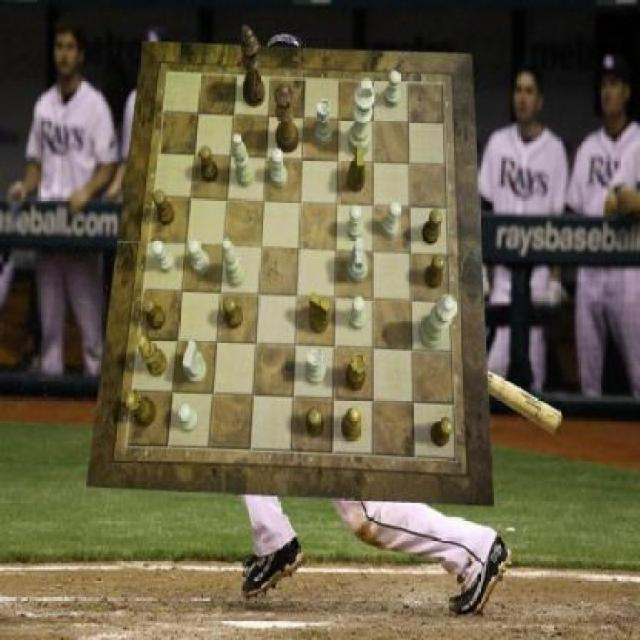bishop: (137, 334, 167, 376), (342, 408, 362, 442)
black-bishop: (240, 25, 266, 107)
black-king: (309, 292, 332, 334), (348, 145, 365, 192)
black-knight: (152, 190, 175, 226), (142, 297, 166, 331), (200, 146, 220, 182), (423, 209, 443, 244), (426, 254, 446, 288), (431, 417, 454, 446), (223, 297, 243, 329), (306, 408, 324, 438)
black-pawn: (274, 83, 300, 152)
black-queen: (126, 389, 157, 427), (346, 352, 366, 390)
black-rook: (232, 134, 255, 188), (222, 238, 246, 288)
white-bishop: (348, 79, 374, 156)
white-king: (183, 340, 208, 384), (348, 237, 368, 282)
white-knight: (150, 238, 174, 272), (188, 239, 210, 273), (270, 148, 288, 186), (383, 202, 401, 239), (384, 73, 402, 109), (349, 297, 367, 331), (178, 405, 200, 432), (348, 204, 364, 240)
white-pawn: (418, 294, 458, 348)
white-queen: (304, 348, 326, 386), (314, 99, 331, 146)
